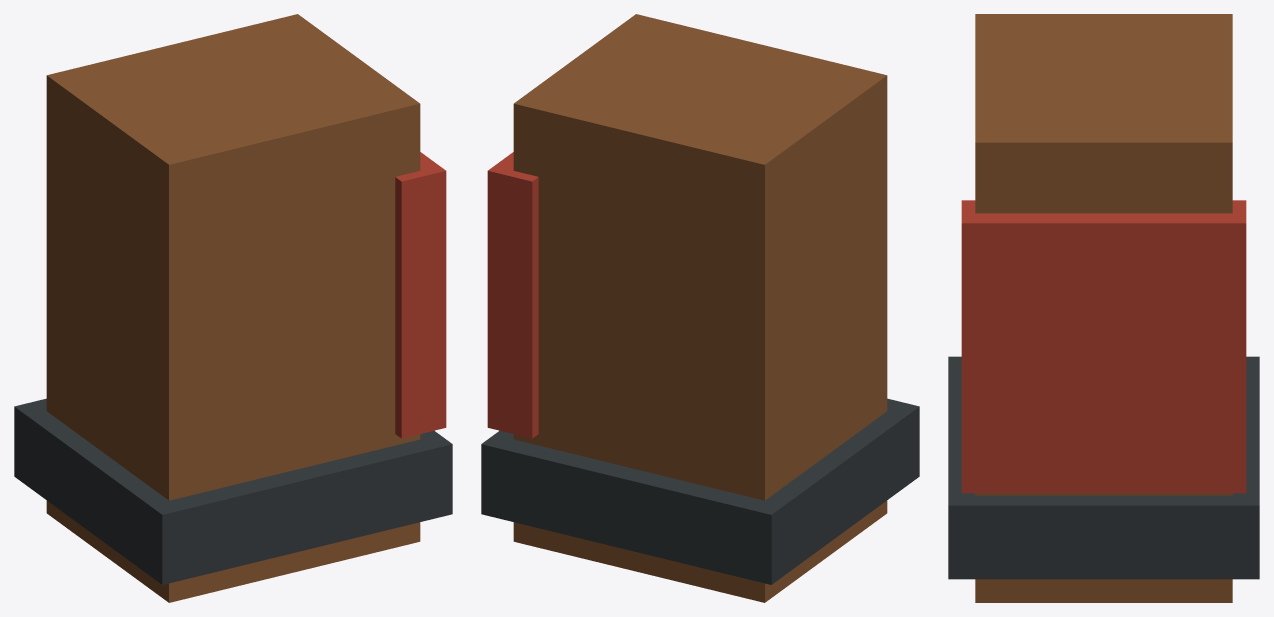
Rendered from scrap_foregrip.glb.
3 renders of one model, left to right at view 1: azimuth 30°, elevation 25°; view 2: azimuth 150°, elevation 25°; view 3: azimuth 270°, elevation 25°, orthographic. The views are drawn at different scales.
Visible parts, largest first — view 1: scrap_foregrip; view 2: scrap_foregrip; view 3: scrap_foregrip.
Part boxes in pixels (<box>): scrap_foregrip: <box>14,14,452,602</box>; scrap_foregrip: <box>481,14,919,602</box>; scrap_foregrip: <box>948,14,1259,602</box>.
Bounding box in the file's own units: 0.052 × 0.075 × 0.046.
